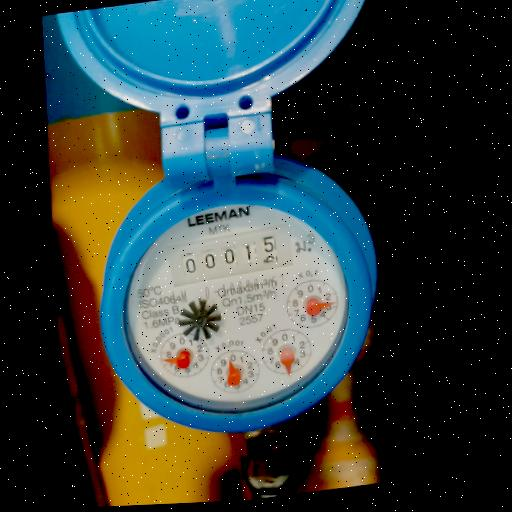0: (180, 251, 201, 278), (221, 244, 240, 270), (201, 248, 219, 273)
1: (240, 241, 258, 266)
5: (258, 233, 280, 267)
border_water_meter_number: (165, 223, 296, 287)
